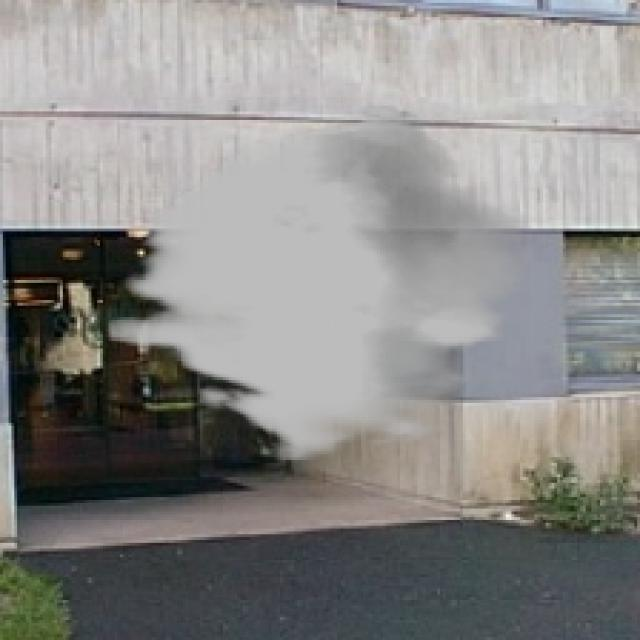smoke: (109, 103, 532, 463)
